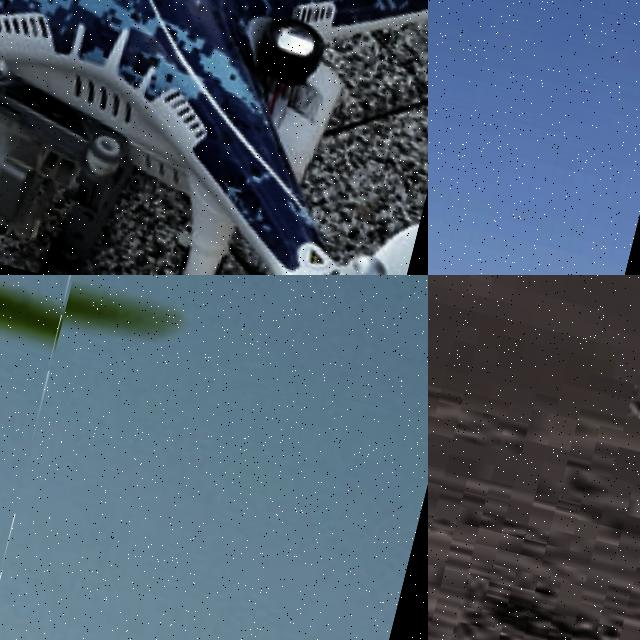drone: (0, 0, 428, 275), (0, 275, 101, 640)
